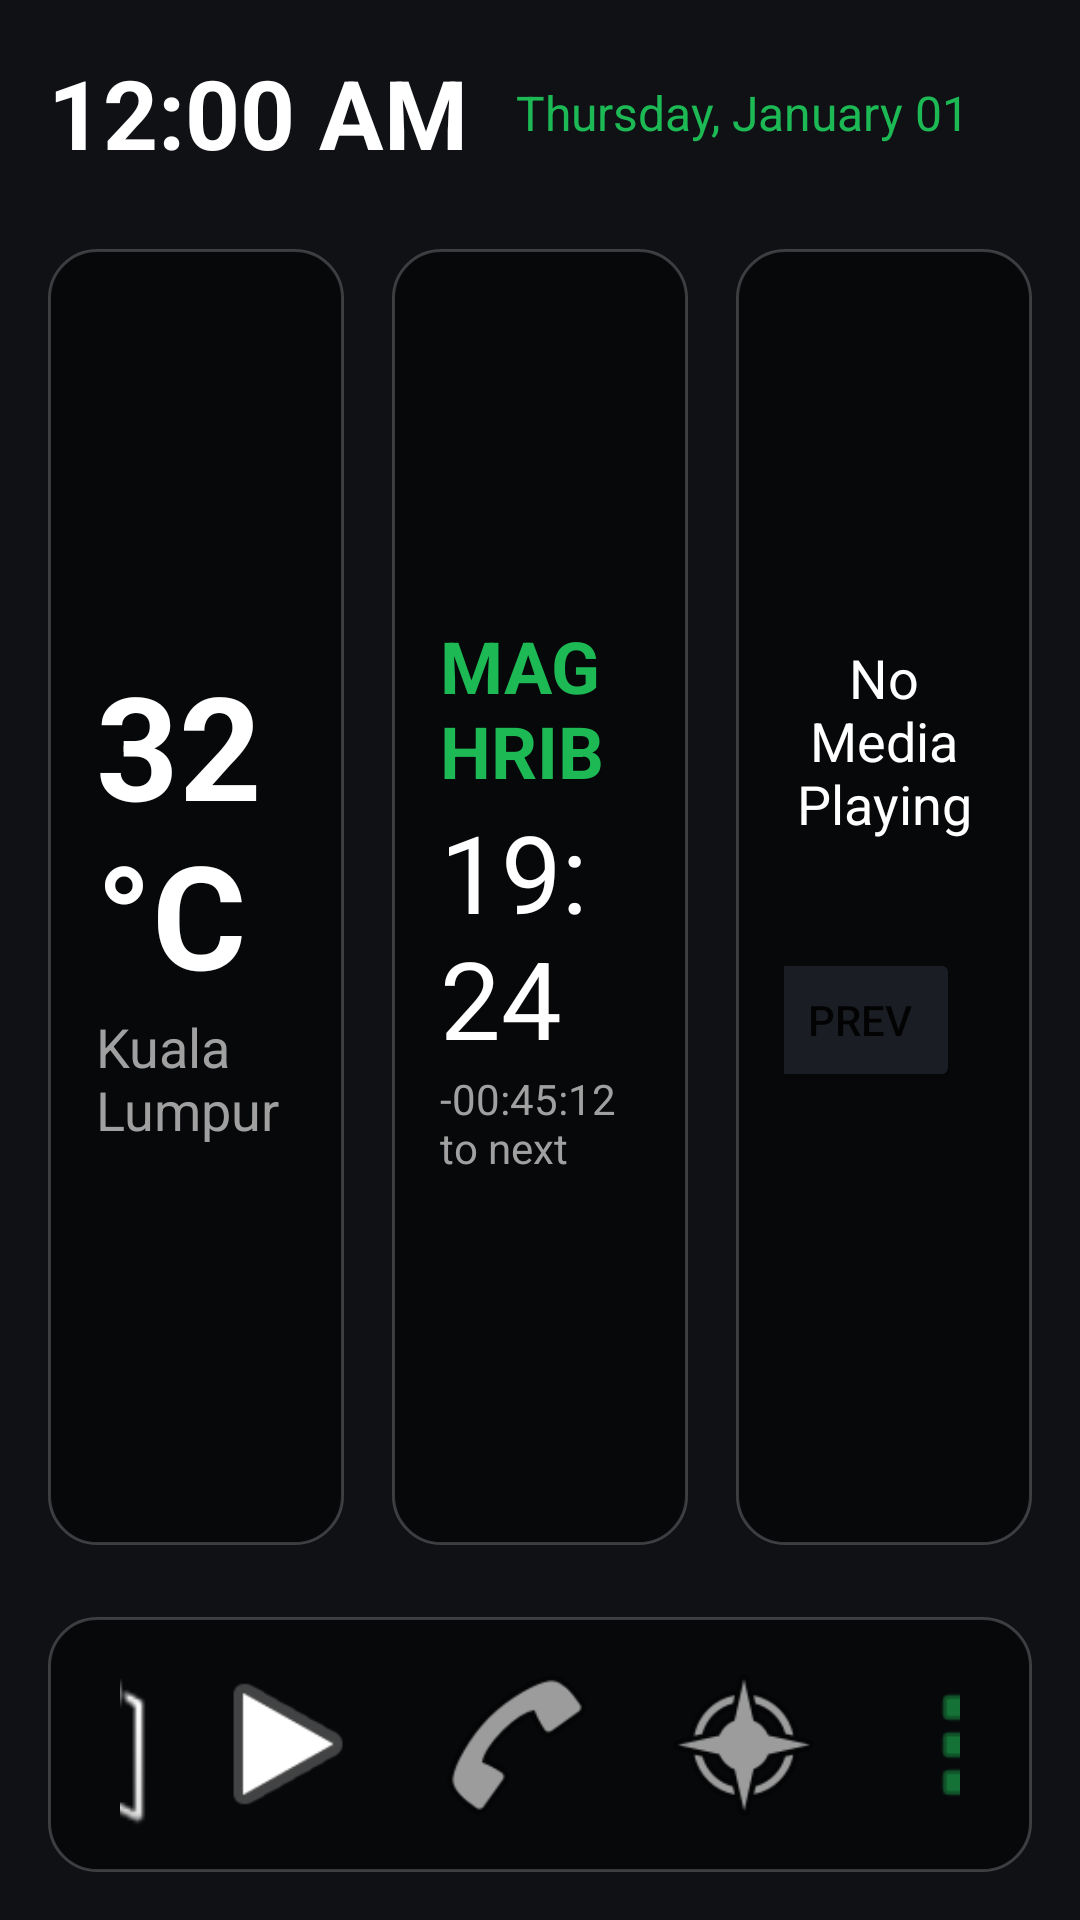

Where icons sit on this 1080px×1920px app screen, as (x1, y1, x2, y2):
call: (452, 1680, 582, 1810)
compass: (679, 1681, 809, 1810)
play: (233, 1684, 343, 1804)
